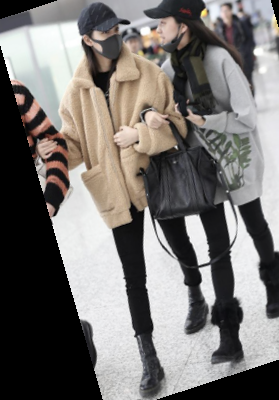mask_weared_incorrect: (141, 1, 216, 52)
